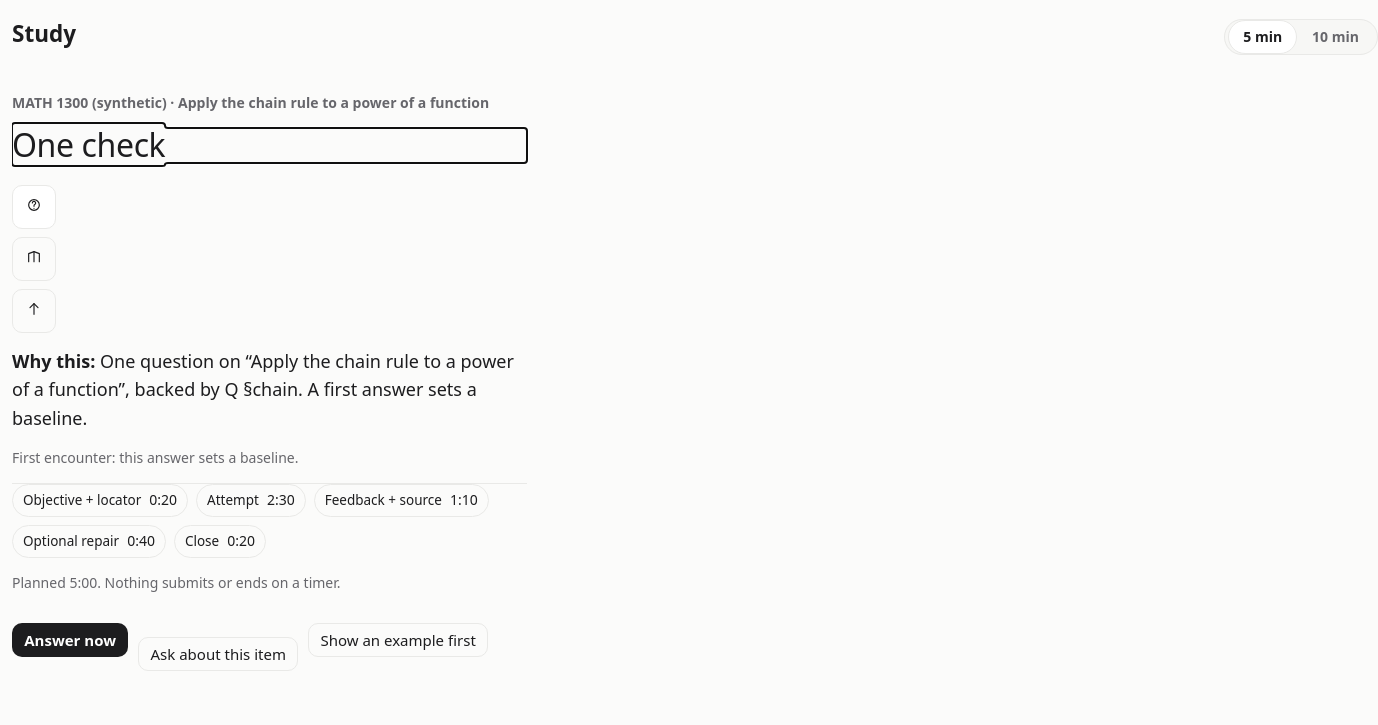
Scenario: StudyView journey › show source asks for confirmation, then marks the attempt exposed
This screenshot has width=1378, height=725.
Expected: the heading "One check" is shown, [12, 123, 165, 166]
Click the button "Answer now". click: click(70, 640)
box: [12, 623, 128, 657]
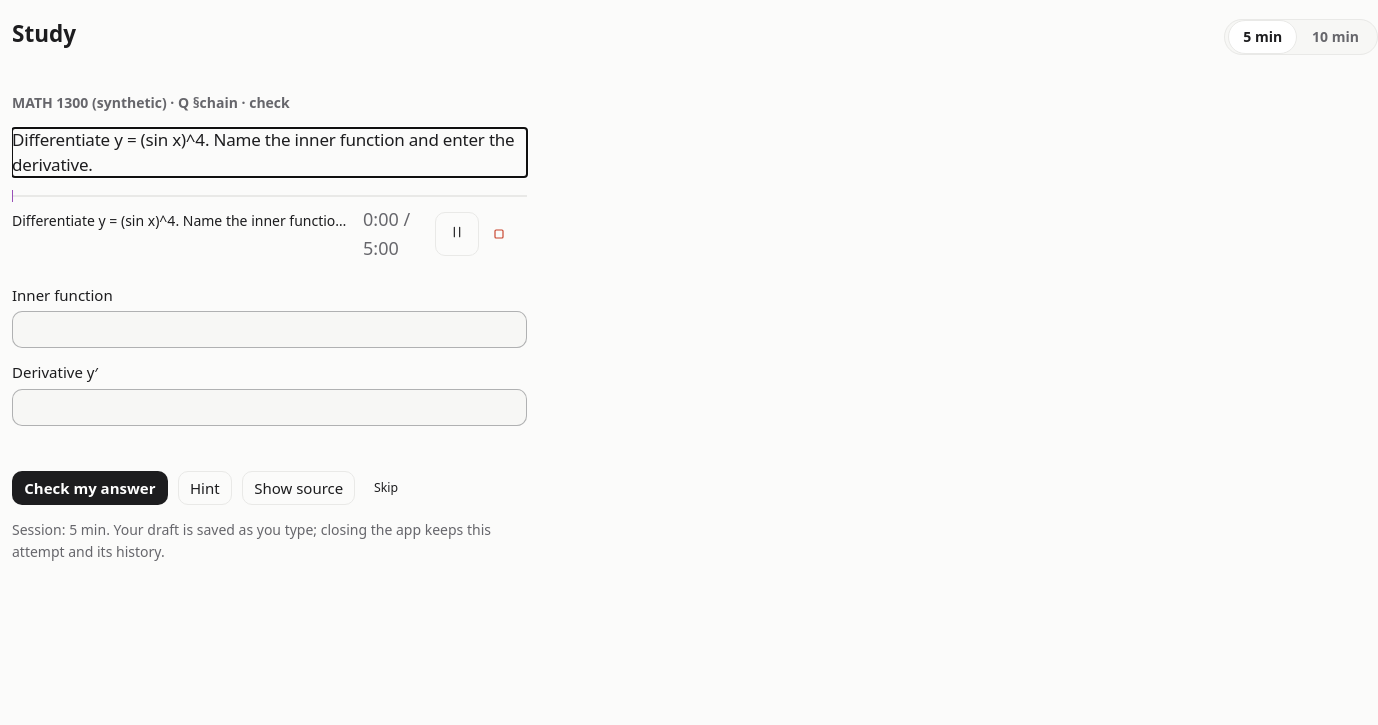
Click the button "Show source". click: click(299, 488)
box: [242, 471, 356, 505]
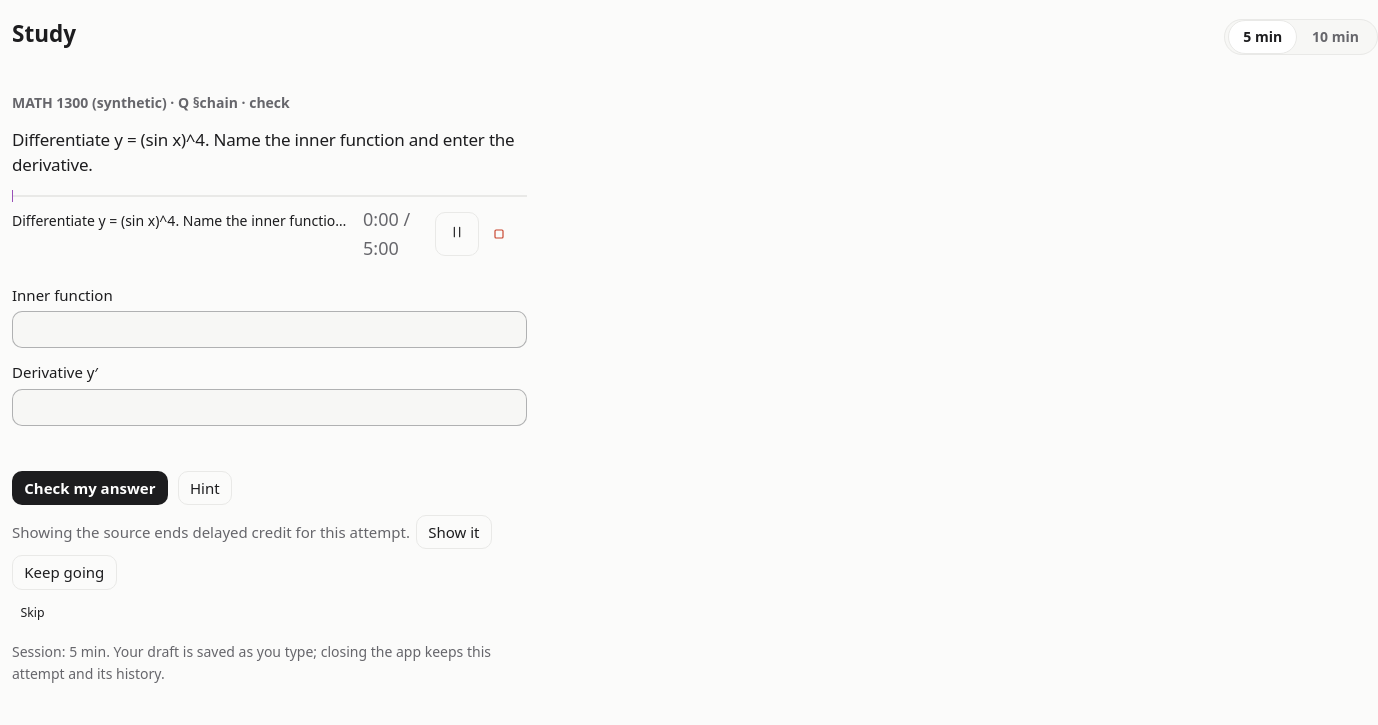
Result: the text "ends delayed credit" is shown at [12, 522, 410, 542]
Click the button "Show it". click: click(454, 532)
box: [416, 515, 492, 549]
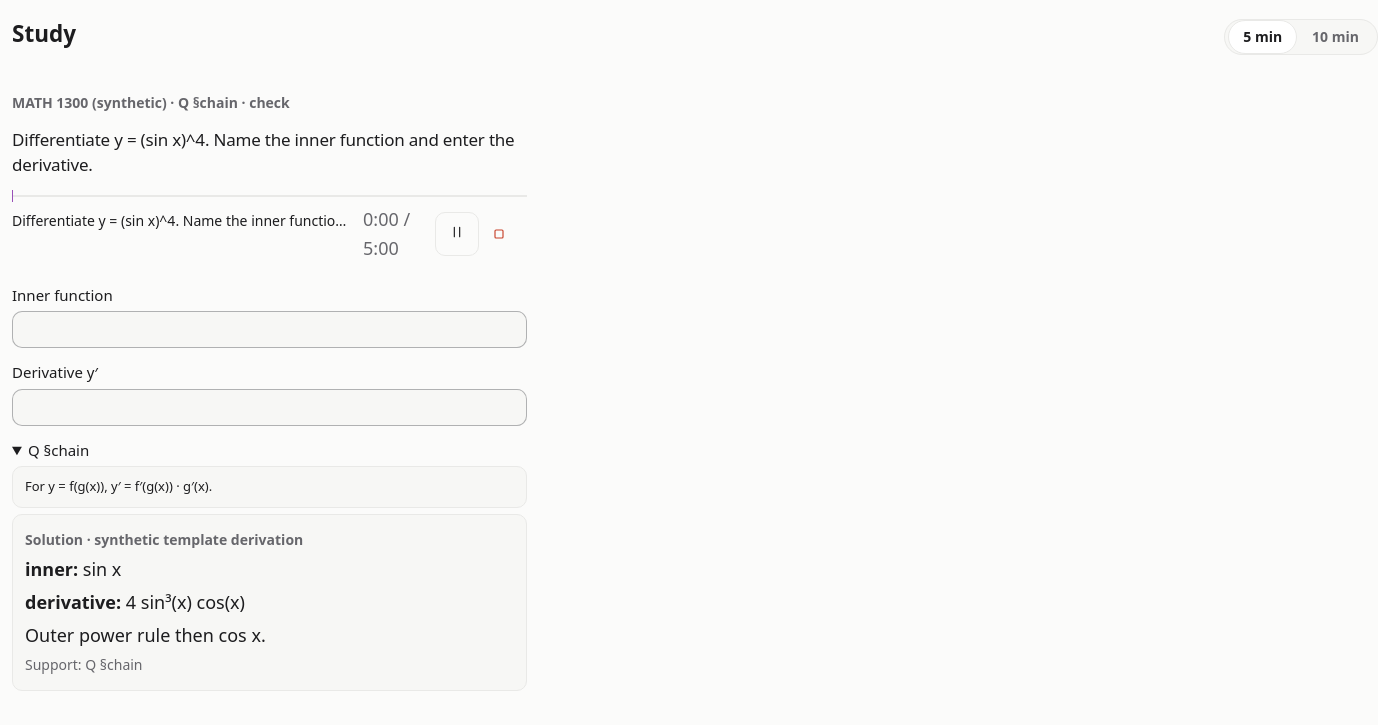
Result: the text "derivative: 4 sin³(x) cos(x)" is shown at [25, 590, 245, 614]
Type "sin x" into the field labelled "Inner function". click: (269, 330)
box: [12, 311, 527, 348]
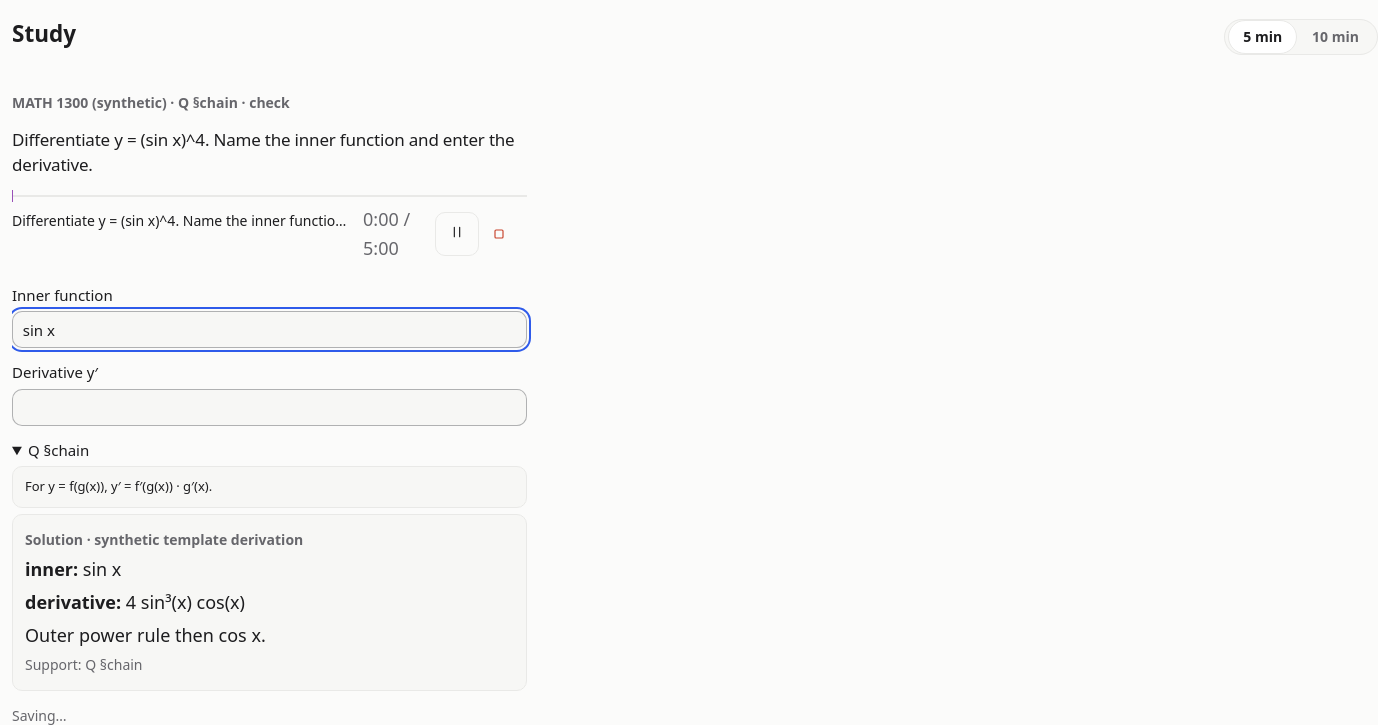
Type "4 sin^3 x cos x" into the field labelled "Derivative y′". click: (269, 407)
box: [12, 389, 527, 426]
(page scrolled)
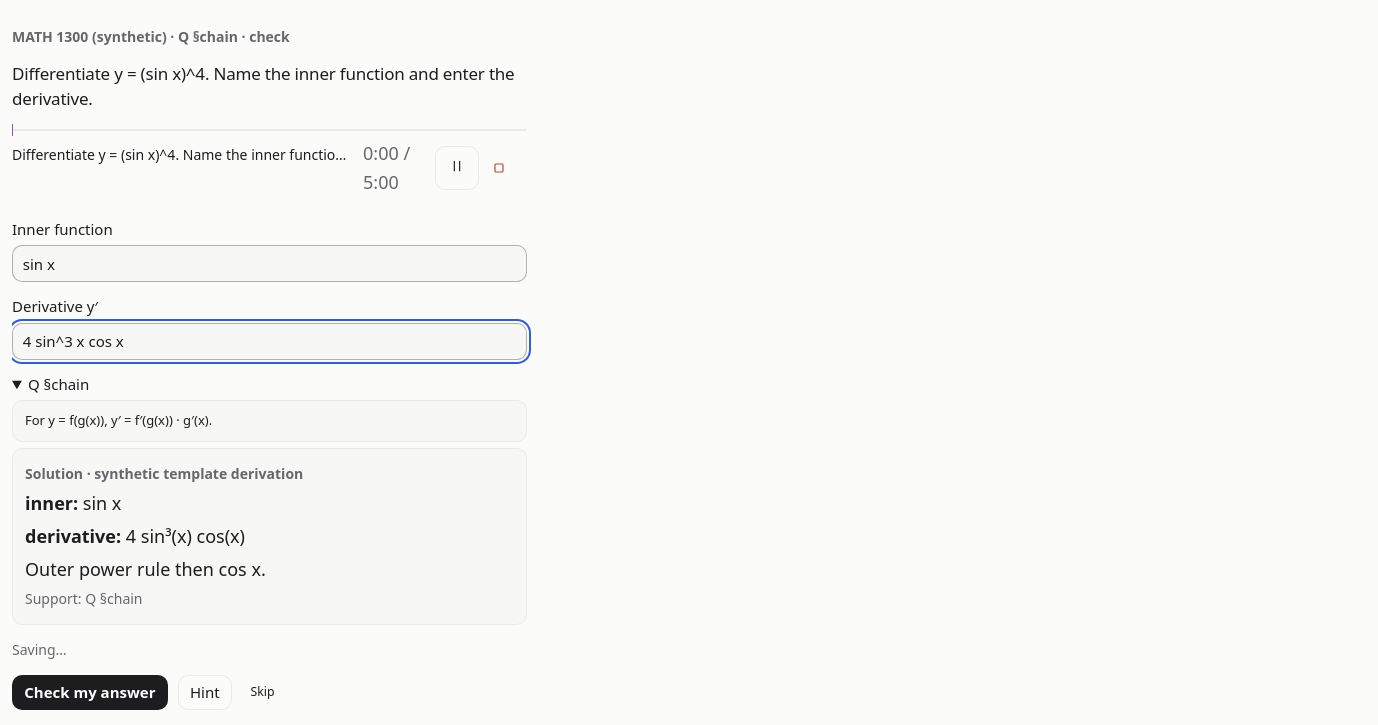
Click the button "Check my answer". click: click(90, 692)
box: [12, 675, 168, 710]
(page scrolled)
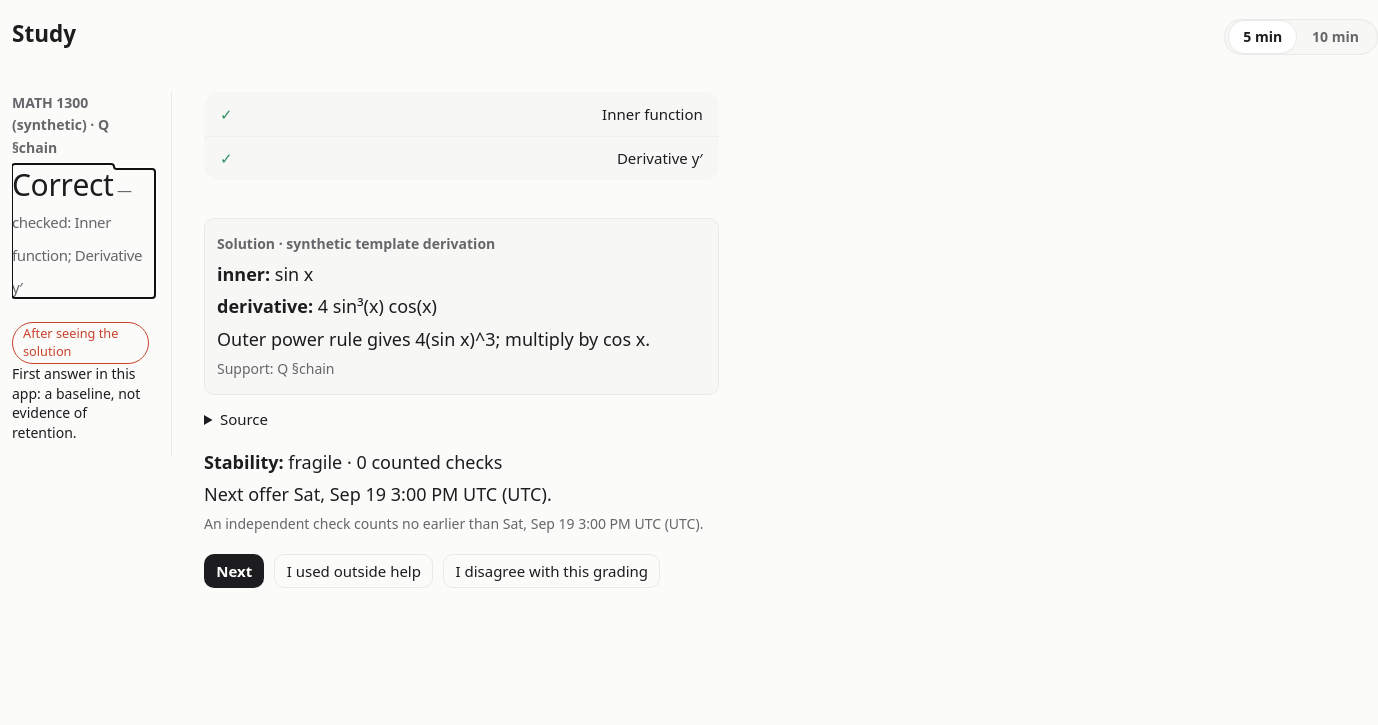
Result: the heading named "Correct" is shown at [12, 169, 155, 298]
Result: the text "After seeing the solution" is shown at [12, 322, 149, 364]
